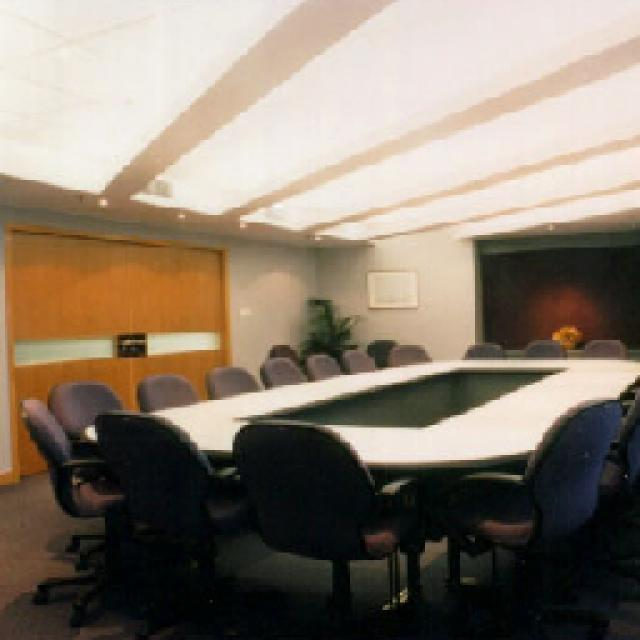cabinet door: (5, 225, 228, 395)
chair: (50, 380, 118, 438), (138, 370, 198, 408), (202, 365, 255, 395), (258, 355, 302, 385), (520, 335, 562, 355), (305, 352, 338, 375), (580, 338, 622, 355), (390, 342, 428, 360), (342, 348, 370, 370), (460, 340, 500, 352)
chair -occluded-: (230, 418, 422, 630), (92, 410, 260, 632), (435, 398, 618, 550), (18, 392, 132, 622)
conference table: (78, 352, 638, 462)
painting crop: (365, 270, 415, 308)
plant -x: (295, 295, 355, 350)
